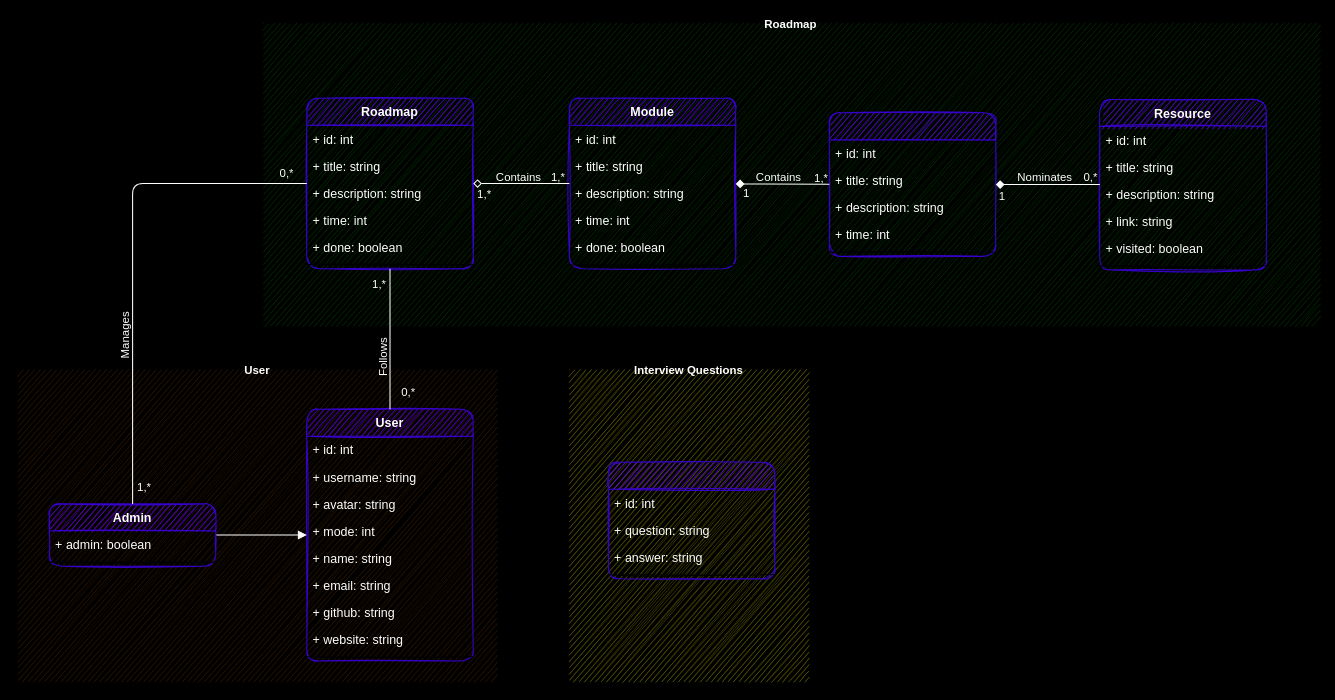
The diagram is 1335 pixels wide and 700 high, and some of its shapes have lost their labels. Each missing label, with the box of its shape:
Interview Question: (607, 461, 775, 579)
Node: (828, 112, 996, 256)
